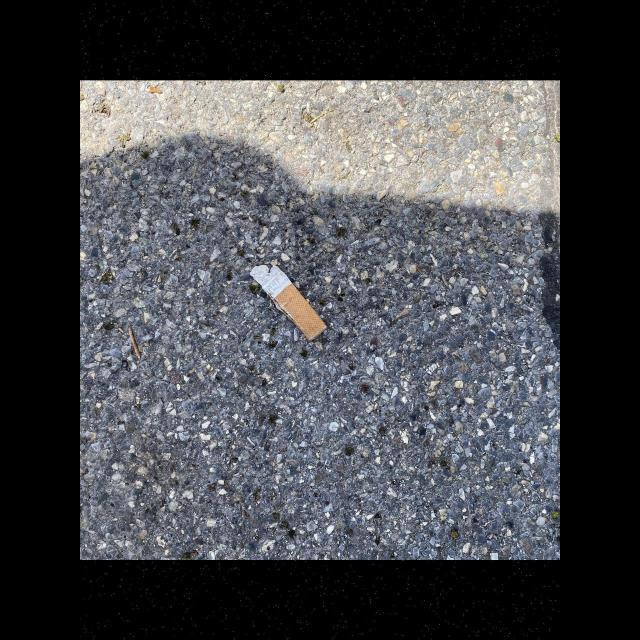cigarette: (249, 263, 328, 341)
